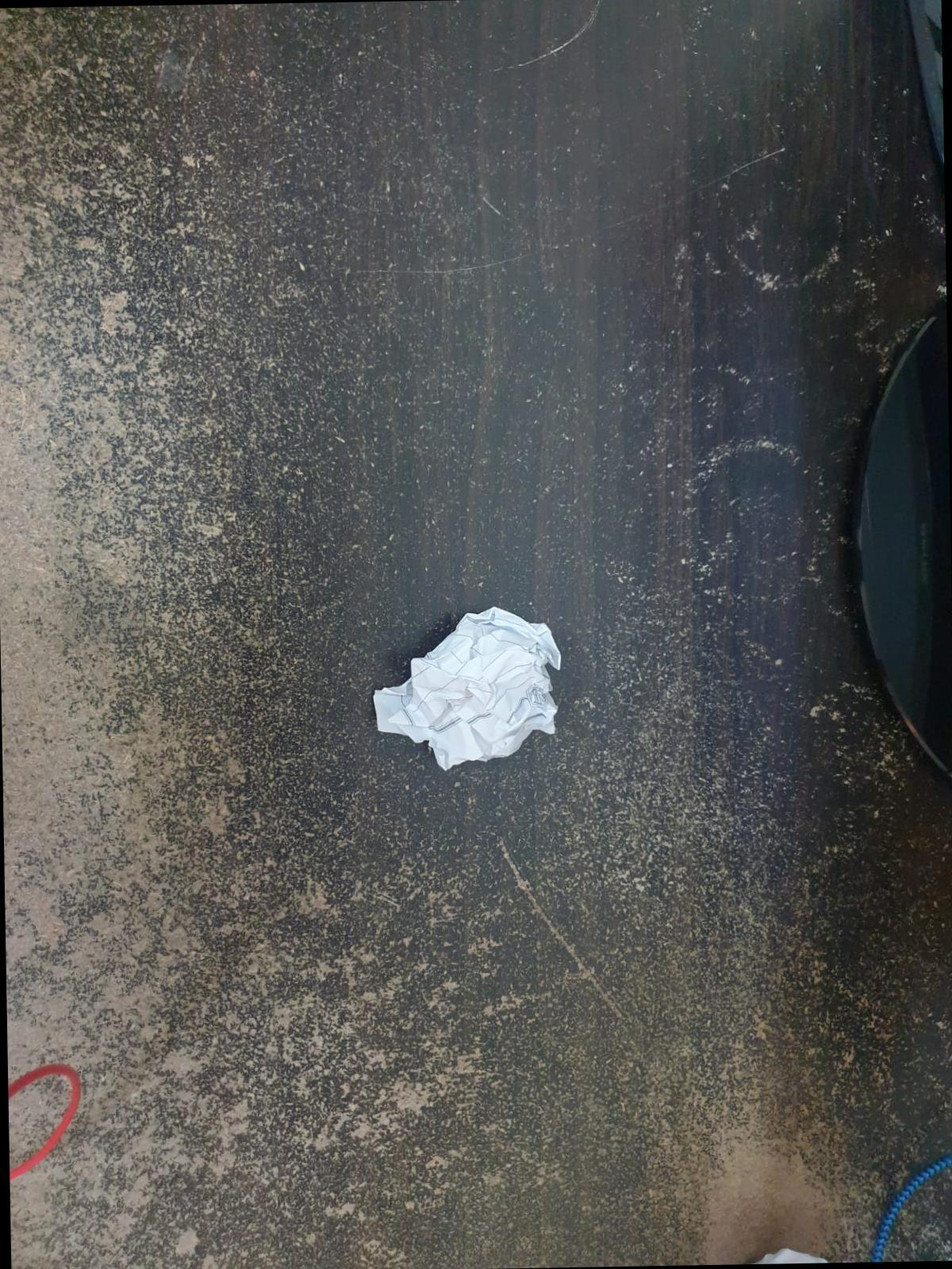Kertas: (374, 605, 562, 769)
